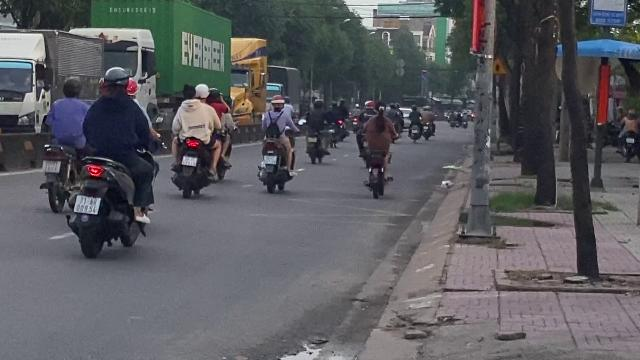helmet: (100, 66, 130, 94), (60, 76, 82, 98), (193, 84, 209, 100), (124, 78, 138, 96)
licenseplate: (74, 195, 100, 213), (42, 160, 60, 172), (181, 156, 197, 166)
motorcyclist: (68, 65, 158, 260), (168, 82, 230, 198), (38, 75, 88, 210)
nohelmet: (180, 84, 198, 103)
